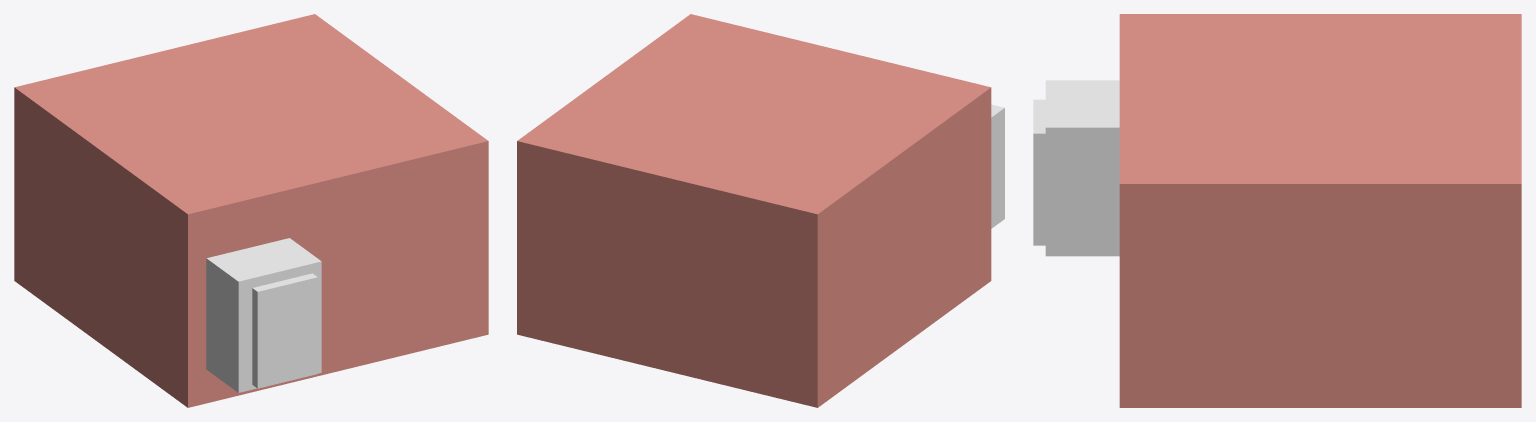
The model's file is tinker.obj.
The picture shows the model from 3 angles, left to right: view 1: azimuth 30°, elevation 25°; view 2: azimuth 150°, elevation 25°; view 3: azimuth 270°, elevation 25°; orthographic projection. The views are drawn at different scales.
Visible parts, largest first — view 1: group_0_15308428, group_0_16448250; view 2: group_0_15308428, group_0_16448250; view 3: group_0_15308428, group_0_16448250.
Part boxes in pixels (x1,y1,x2,y2): group_0_15308428: (14,14,488,407); group_0_16448250: (206,238,321,392); group_0_15308428: (517,14,991,407); group_0_16448250: (991,104,1004,228); group_0_15308428: (1119,14,1521,407); group_0_16448250: (1033,80,1119,256).
Bounding box in the file's own units: 65 × 45 × 79.
